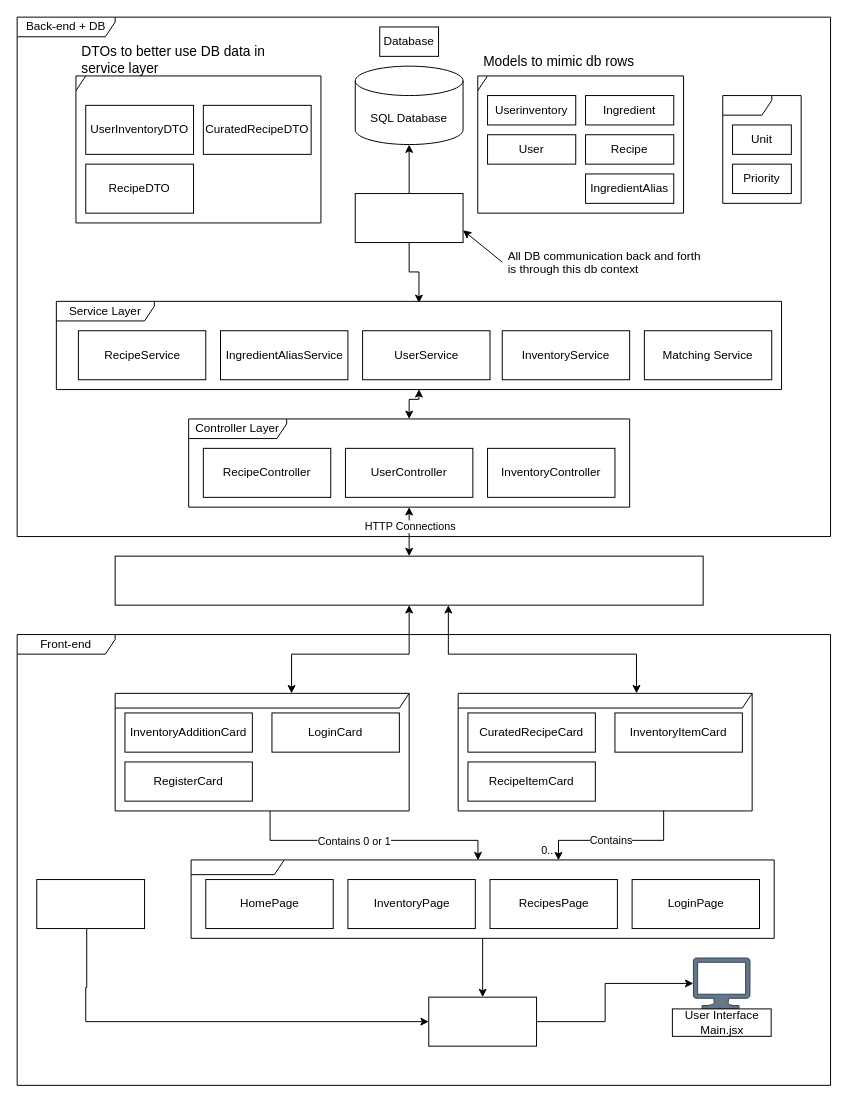
Image size: 848x1103. Some labels were removed from this diagram. Each missing label, with the centre of its shape:
API Layer Via Axios: point 408,580
App.jsx: point 482,1021
Display Components: point 604,751
Enums: point 761,149
Interactive Components: point 261,751
Navbar: point 90,904
Pages: point 482,898
RecipEzDbContext: point 408,218
